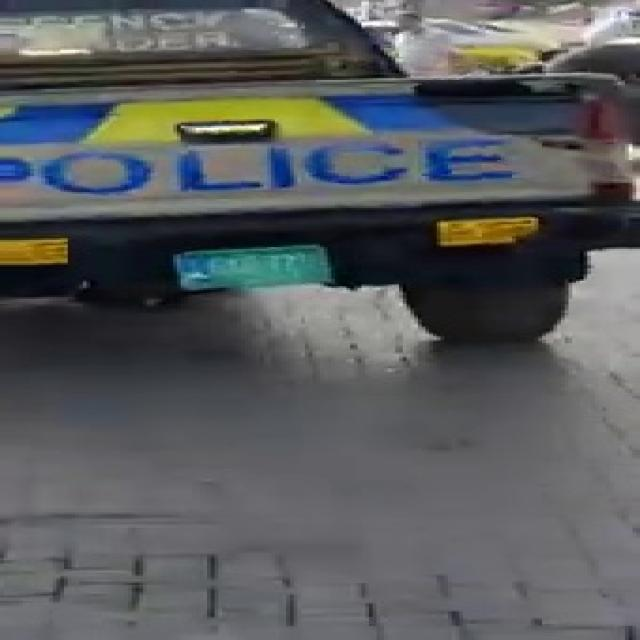police: (0, 20, 625, 302)
